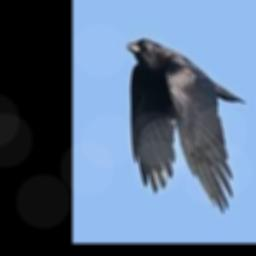Crow: (126, 36, 246, 214)
